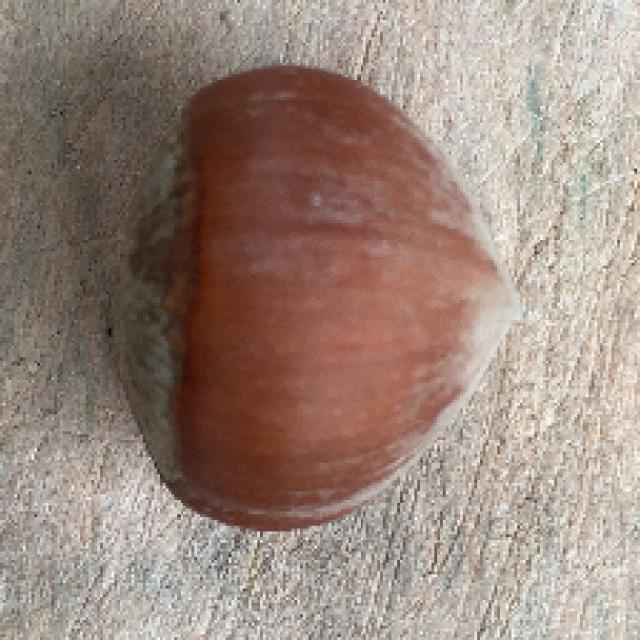qualityHazelnut: (104, 61, 524, 538)
